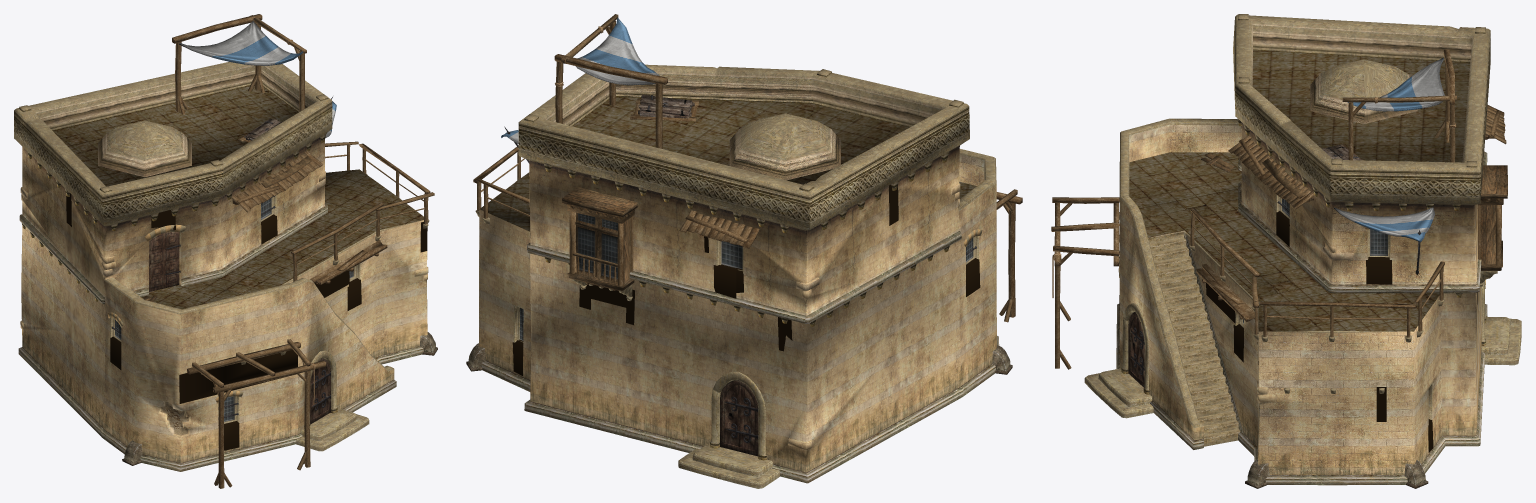
File: oriental_houses_02_LOD1.obj
The picture shows the model from 3 angles, left to right: view 1: azimuth 30°, elevation 25°; view 2: azimuth 150°, elevation 25°; view 3: azimuth 270°, elevation 25°; orthographic projection. The views are drawn at different scales.
Visible parts, largest first — view 1: oriental_houses_02_LOD1.obj; view 2: oriental_houses_02_LOD1.obj; view 3: oriental_houses_02_LOD1.obj.
Boxes of the visible parts, <box> form: oriental_houses_02_LOD1.obj: <box>14,14,437,488</box>; oriental_houses_02_LOD1.obj: <box>466,14,1022,488</box>; oriental_houses_02_LOD1.obj: <box>1051,14,1521,488</box>.
Size of the model in its own units: 496 by 400 by 503.
Materials: 16 (16 with a texture image).
